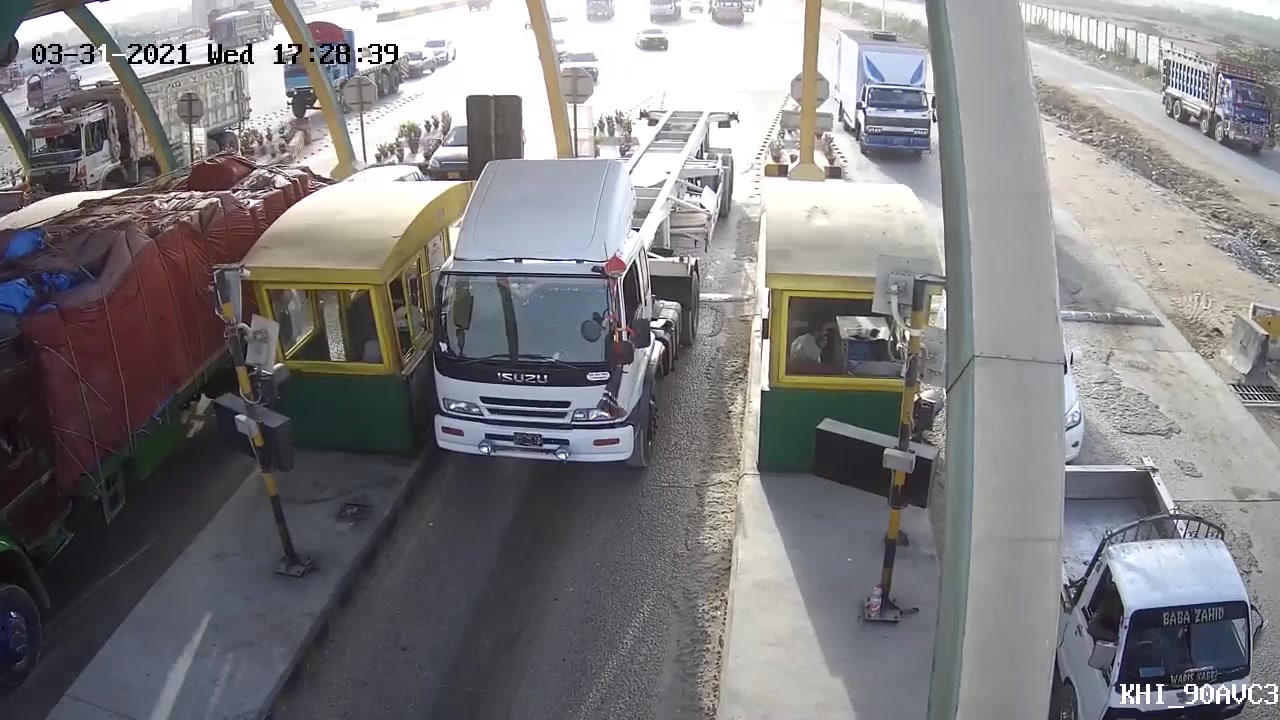F6: (414, 89, 747, 495)
